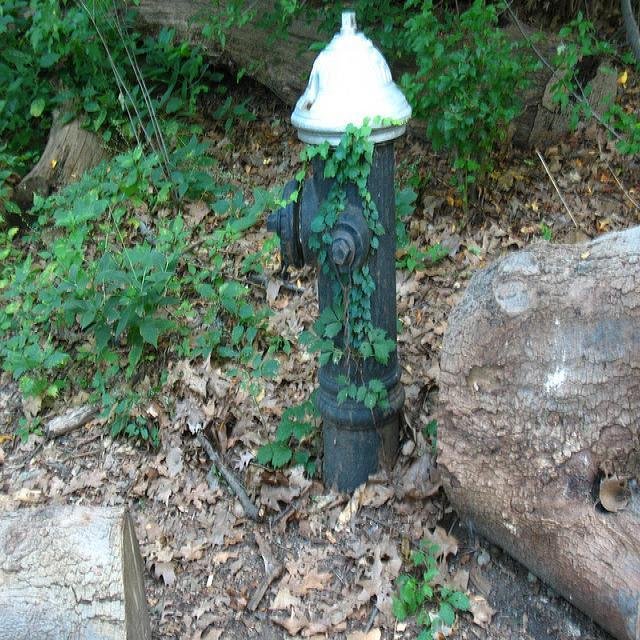fire_hydrant: (264, 12, 413, 503)
